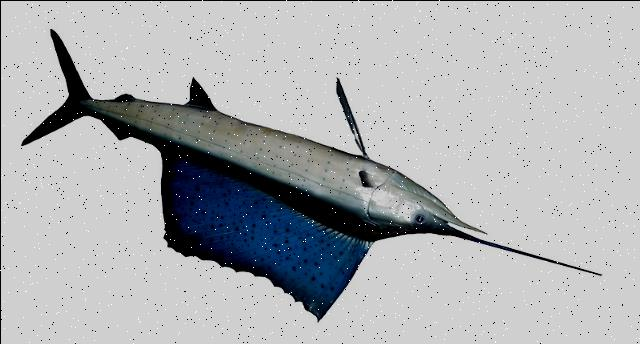Mulut: (393, 183, 614, 294)
Sirip Anal: (102, 84, 136, 148)
Sirip Dada: (338, 156, 380, 196)
Sirip Ekor: (13, 22, 92, 154)
Sirip Perut: (177, 72, 219, 123)
Sirip Punggung: (141, 141, 385, 331)
